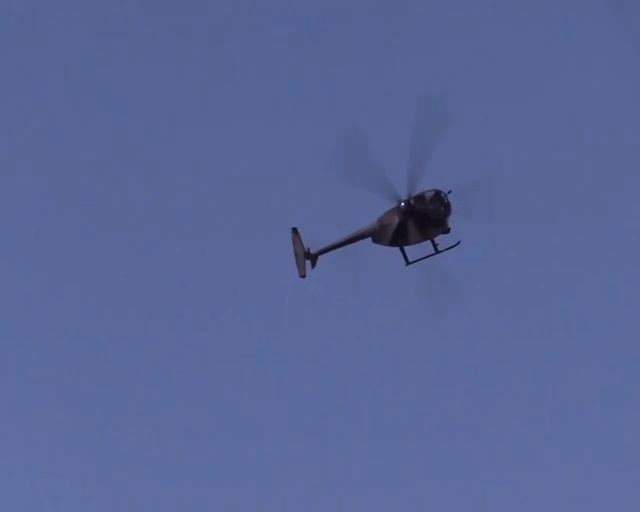HELICOPTER: (288, 91, 468, 276)
